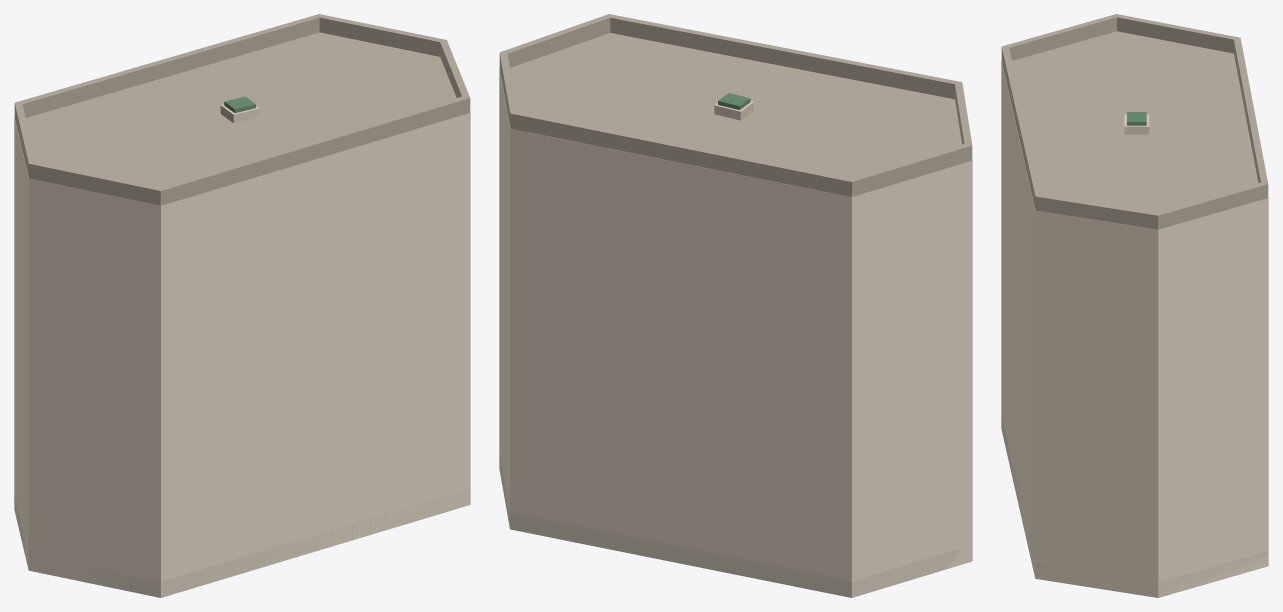
Rendered from cop_art_deco_carioca_03__way_176886419.fbx.
3 renders of one model, left to right at view 1: azimuth 30°, elevation 25°; view 2: azimuth 150°, elevation 25°; view 3: azimuth 270°, elevation 25°, orthographic. The views are drawn at different scales.
Parts seen in each view (by area): view 1: cop_art_deco_carioca_03__way_176886419_wall, cop_art_deco_carioca_03__way_176886419_roof, cop_art_deco_carioca_03__way_176886419_stone; view 2: cop_art_deco_carioca_03__way_176886419_wall, cop_art_deco_carioca_03__way_176886419_roof, cop_art_deco_carioca_03__way_176886419_stone; view 3: cop_art_deco_carioca_03__way_176886419_wall, cop_art_deco_carioca_03__way_176886419_roof, cop_art_deco_carioca_03__way_176886419_stone.
Part boxes in pixels (bbox=[...]): cop_art_deco_carioca_03__way_176886419_wall: bbox=[14, 113, 470, 597]; cop_art_deco_carioca_03__way_176886419_roof: bbox=[14, 14, 470, 205]; cop_art_deco_carioca_03__way_176886419_stone: bbox=[14, 104, 470, 597]; cop_art_deco_carioca_03__way_176886419_wall: bbox=[499, 69, 972, 597]; cop_art_deco_carioca_03__way_176886419_roof: bbox=[499, 14, 972, 197]; cop_art_deco_carioca_03__way_176886419_stone: bbox=[499, 101, 962, 597]; cop_art_deco_carioca_03__way_176886419_wall: bbox=[1001, 61, 1268, 597]; cop_art_deco_carioca_03__way_176886419_roof: bbox=[1001, 14, 1268, 229]; cop_art_deco_carioca_03__way_176886419_stone: bbox=[1001, 114, 1268, 597].
Size of the model in its own units: 2119 by 1869 by 1185.
